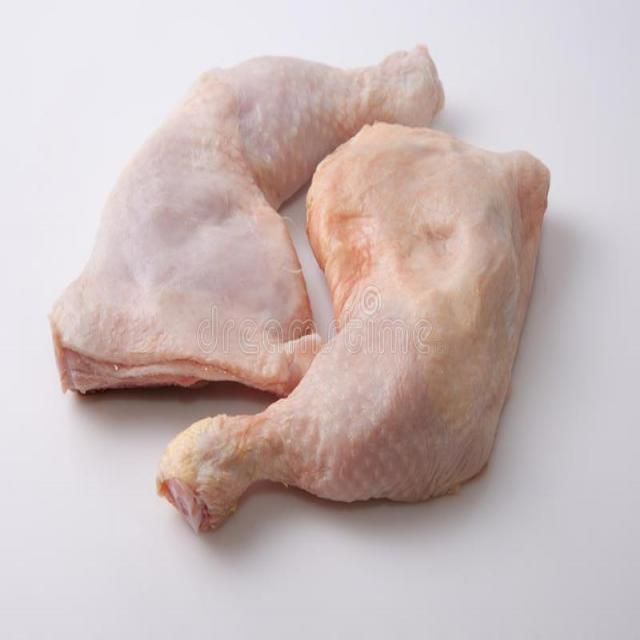chicken breast: (47, 40, 553, 536)
